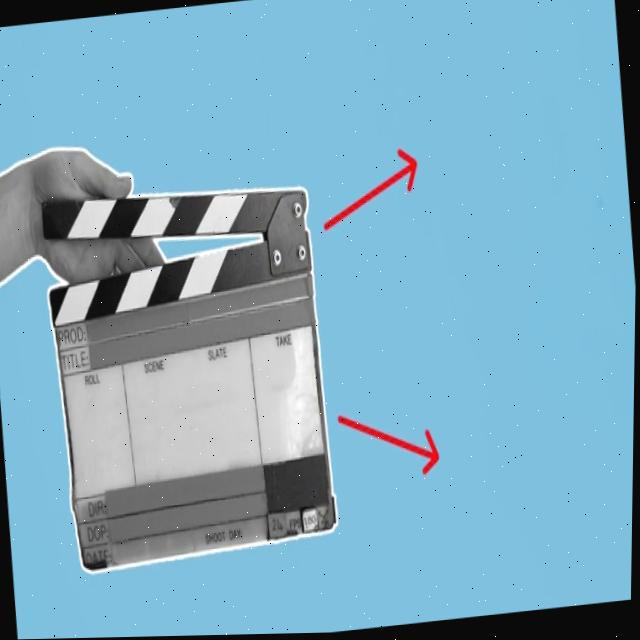Clapperboard: (32, 155, 348, 581)
